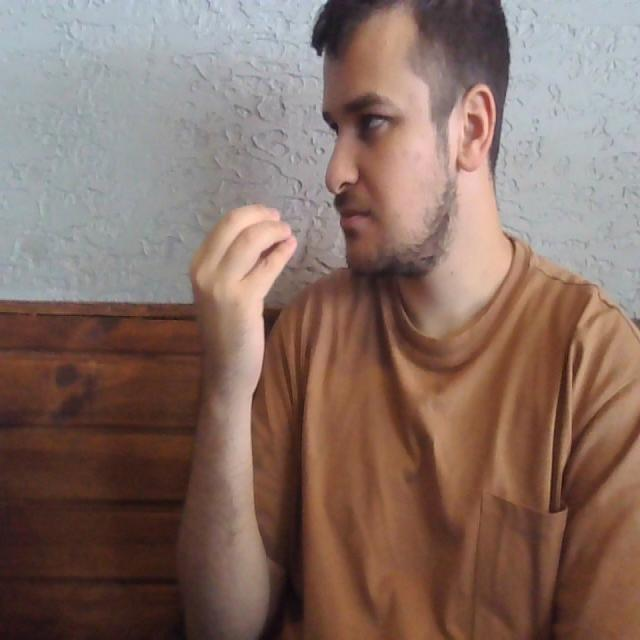Yemek: (182, 185, 392, 296)
